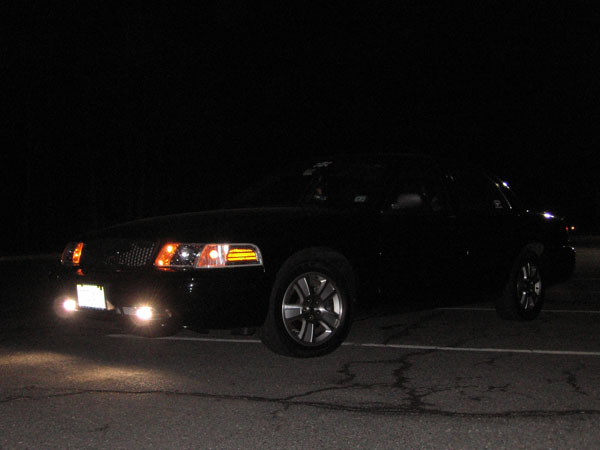car: (43, 146, 588, 366)
